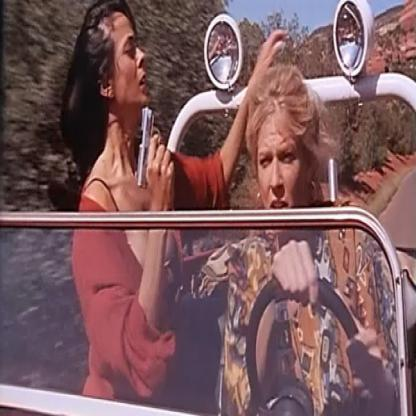Gun: (134, 104, 164, 198)
